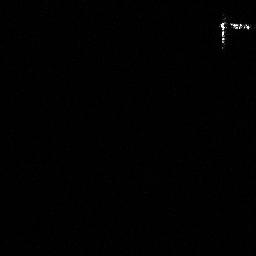ship: (216, 18, 256, 50)
